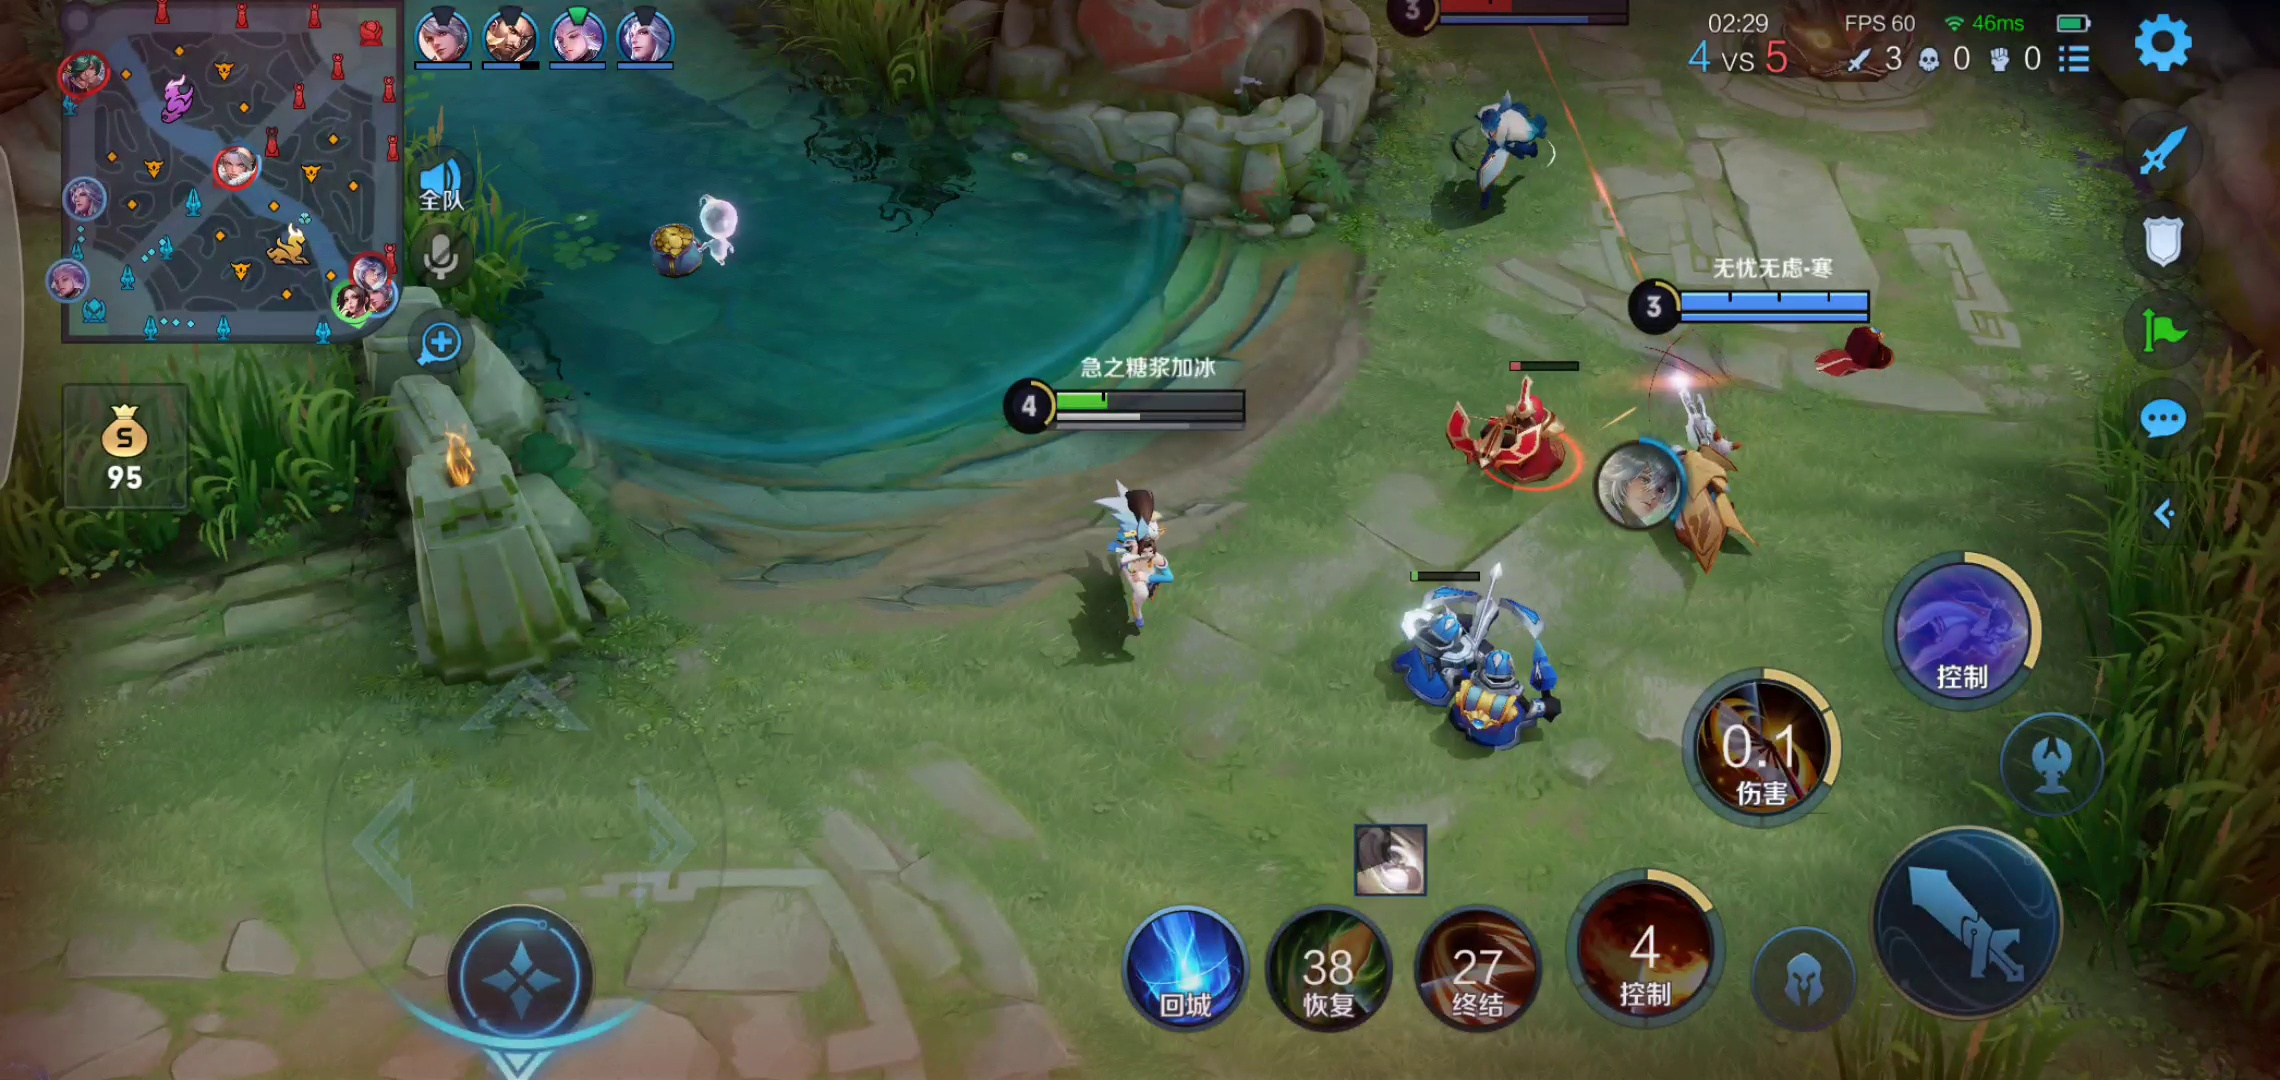grass: (2071, 349, 2280, 959), (7, 363, 394, 573), (361, 119, 567, 326), (762, 1, 974, 141)
hero: (1636, 394, 1775, 579), (1067, 470, 1205, 647), (1428, 76, 1572, 206)
soldier: (1444, 363, 1594, 493), (1448, 622, 1562, 762), (1376, 584, 1476, 709)
